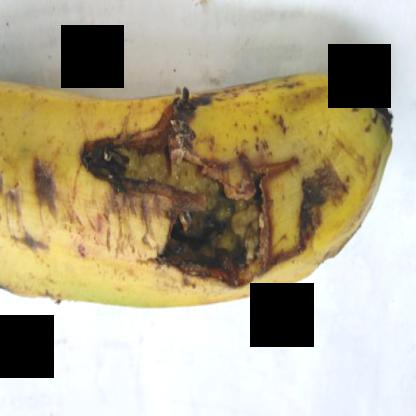rotten: (71, 76, 298, 286)
